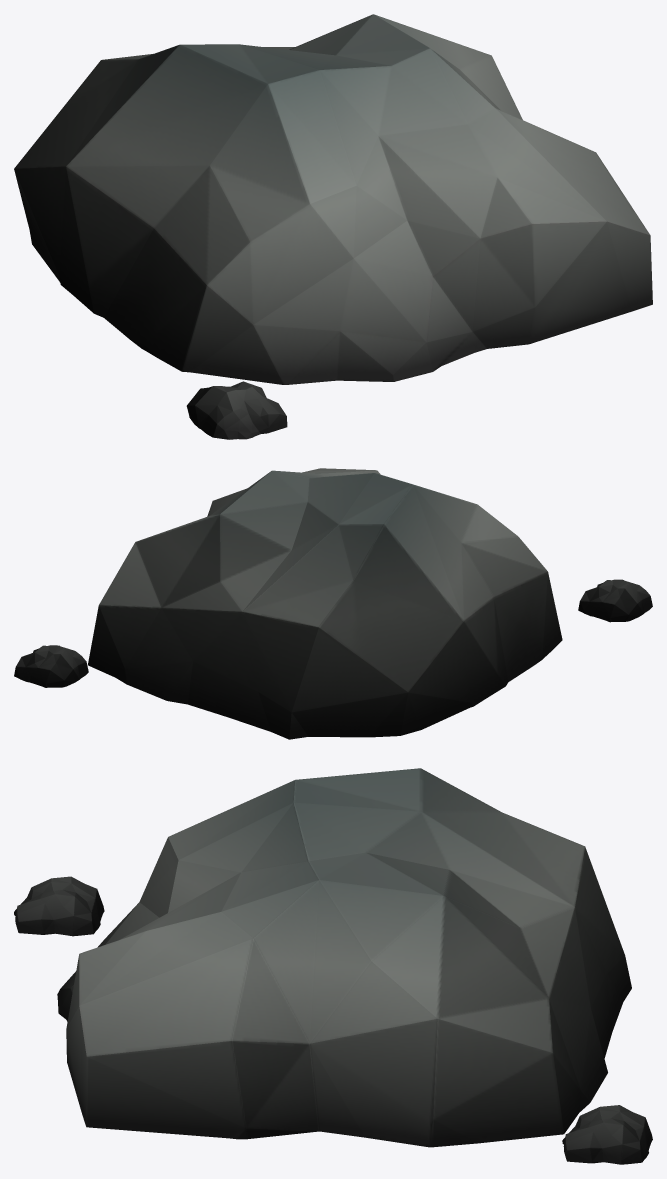
File: rock-lowpoly.fbx
3 views of the same model, one above another, from view 1: azimuth 30°, elevation 25°; view 2: azimuth 150°, elevation 25°; view 3: azimuth 270°, elevation 25° (orthographic). The views are drawn at different scales.
Visible parts, largest first — view 1: Cube.004; view 2: Cube.004; view 3: Cube.004.
Boxes of the visible parts, left/top/right/bottom form: Cube.004: left=14, top=14, right=652, bottom=439; Cube.004: left=14, top=468, right=652, bottom=739; Cube.004: left=14, top=768, right=652, bottom=1164.
Bounding box in the file's own units: 0.9453 × 0.9651 × 0.3556.
